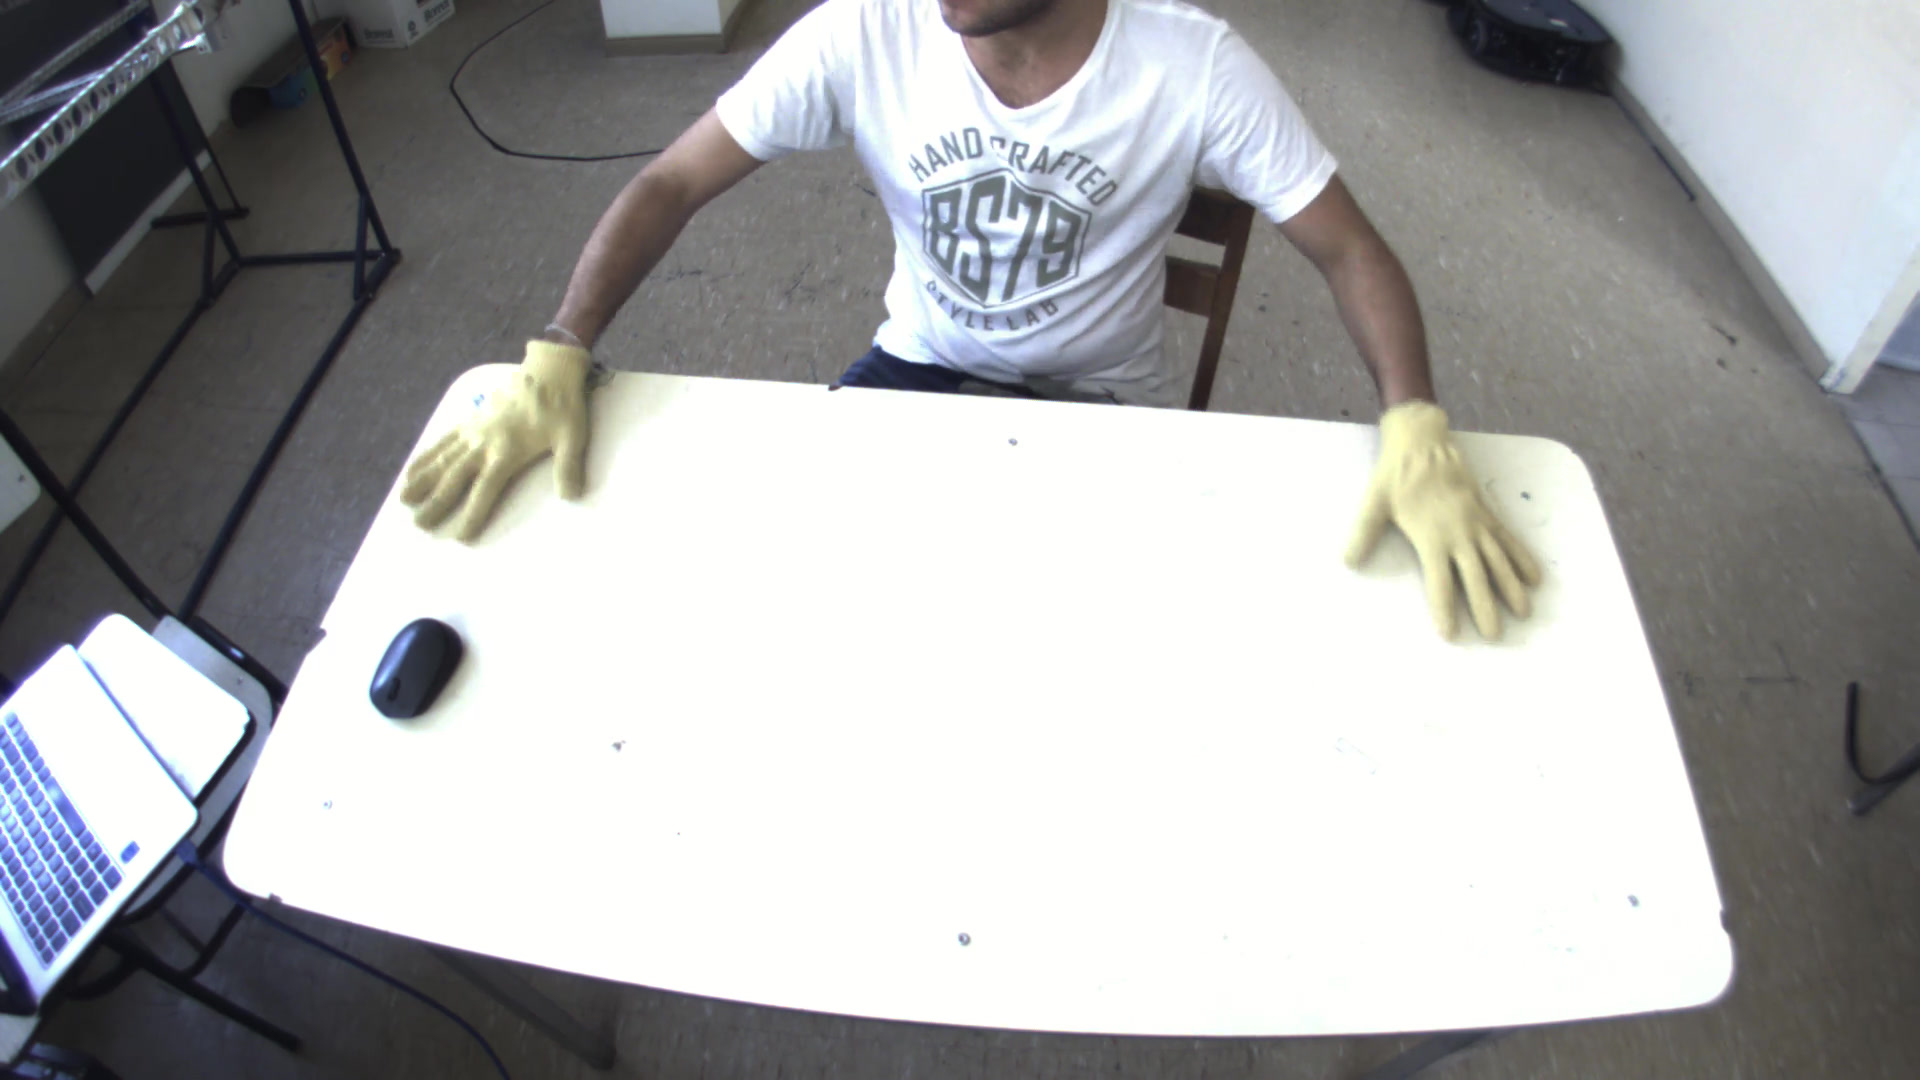hand: (1348, 394, 1568, 659), (382, 324, 608, 556)
